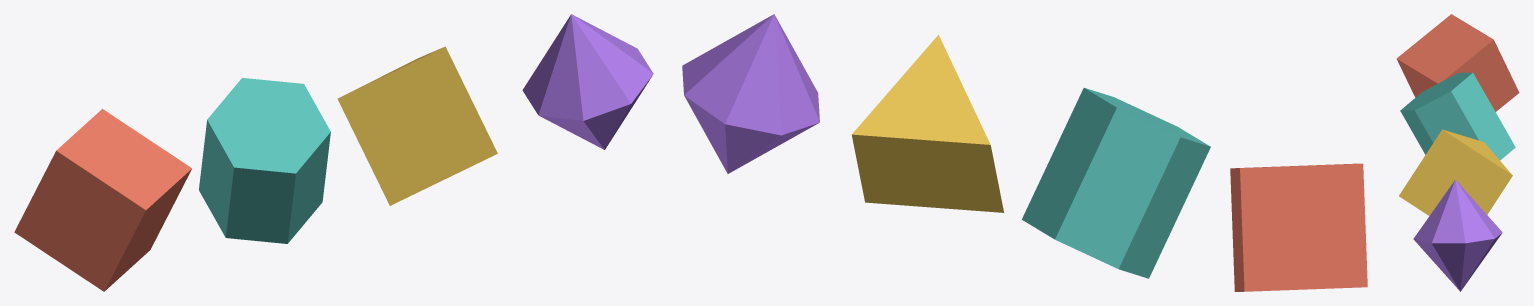
The model's file is hard_edges.glb.
3 renders of one model, left to right at view 1: azimuth 30°, elevation 25°; view 2: azimuth 150°, elevation 25°; view 3: azimuth 270°, elevation 25°, orthographic. The views are drawn at different scales.
Visible parts, largest first — view 1: Cube, Hex, Wedge, Gem; view 2: Hex, Wedge, Cube, Gem; view 3: Cube, Wedge, Hex, Gem.
Part boxes in pixels (box(x1,y1,x2,y2)): Cube: box(14, 109, 191, 291); Hex: box(199, 78, 330, 243); Wedge: box(337, 46, 497, 205); Gem: box(522, 14, 653, 149); Hex: box(1022, 88, 1210, 278); Wedge: box(851, 35, 1003, 212); Cube: box(1230, 163, 1367, 291); Gem: box(682, 14, 819, 173); Cube: box(1396, 14, 1519, 111); Wedge: box(1399, 129, 1512, 215); Hex: box(1400, 72, 1515, 160); Gem: box(1413, 180, 1502, 291).
Bounding box in the file's own units: 2.85 × 0.7082 × 0.7314.
